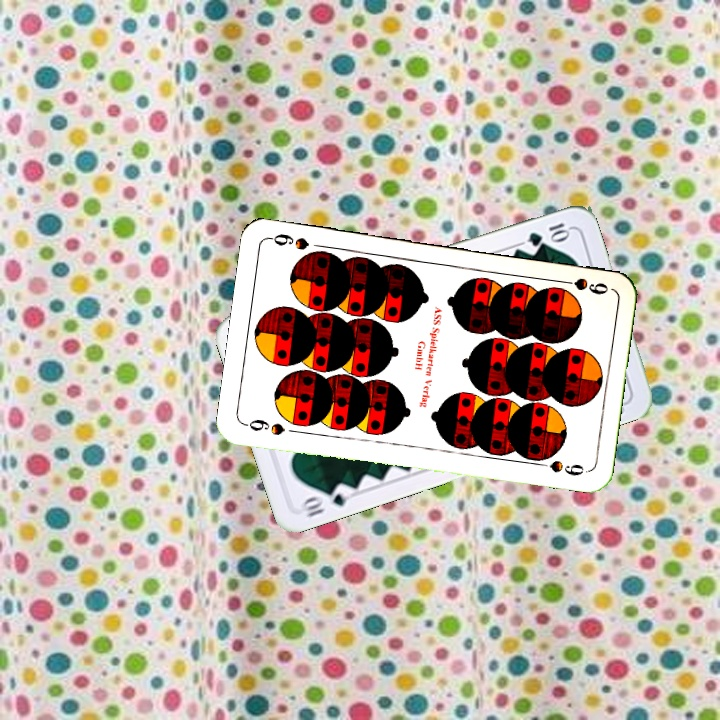G10: (296, 479, 356, 520), (524, 218, 573, 249)
S9: (552, 273, 611, 297), (240, 415, 288, 438)
